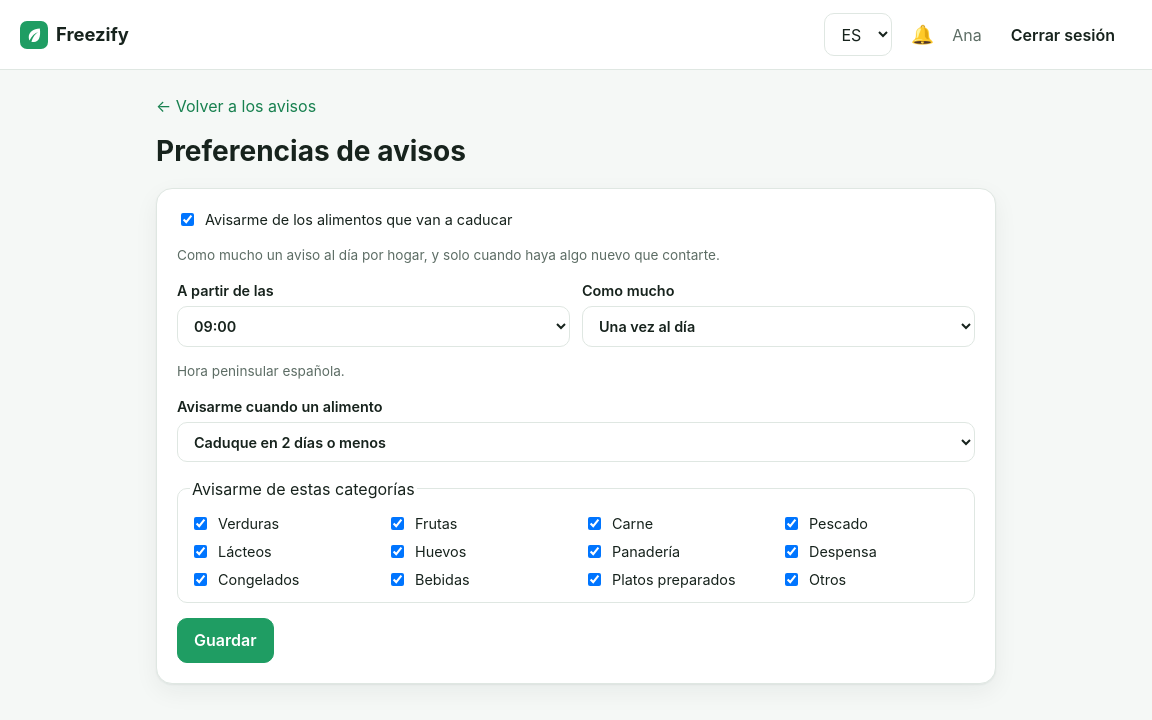
Scenario: notification preferences › saves what the user chooses
Check: the checkbox labelled "Avisarme de los alimentos que van a caducar" is checked, box [181,214,194,226]
Check: the checkbox labelled "Lácteos" is checked, box [194,545,207,558]
Select "20:00" in the dropdown labelled "A partir de las" at (374, 326), box [177,306,570,347]
Select "Cada 3 días" in the dropdown labelled "Como mucho" at (778, 326), box [582,306,975,347]
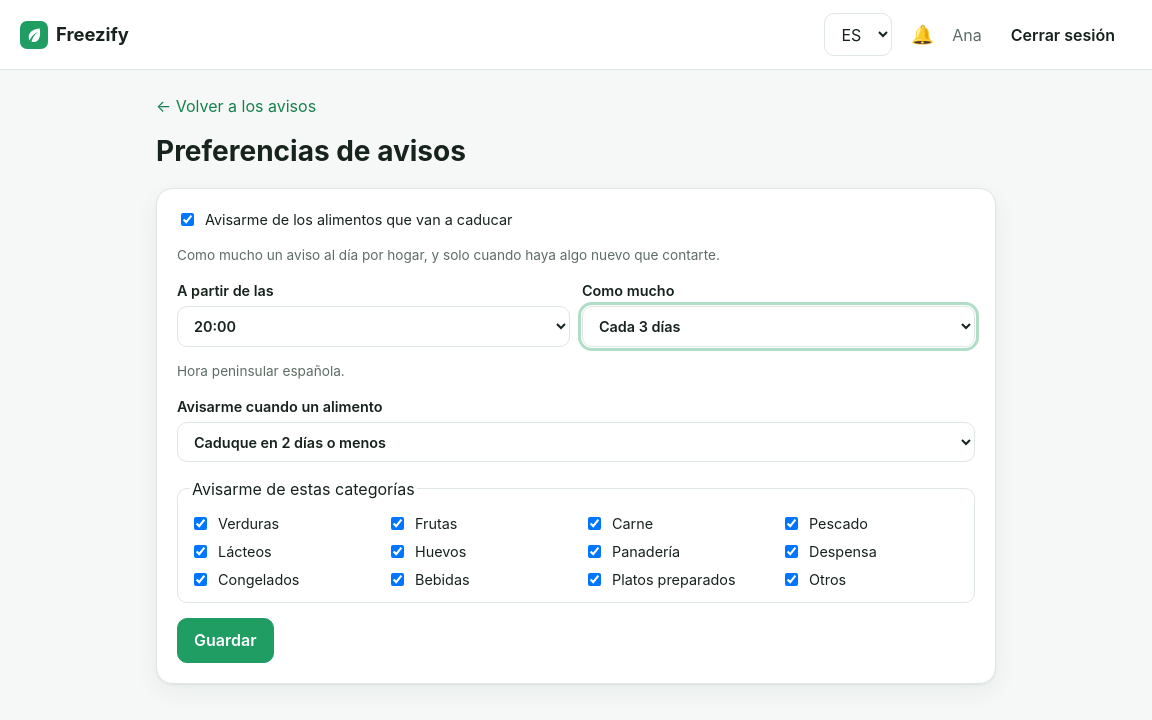
Select "Caduque en 5 días o menos" in the dropdown labelled "Avisarme cuando un alimento" at (576, 442), box [177,422,975,462]
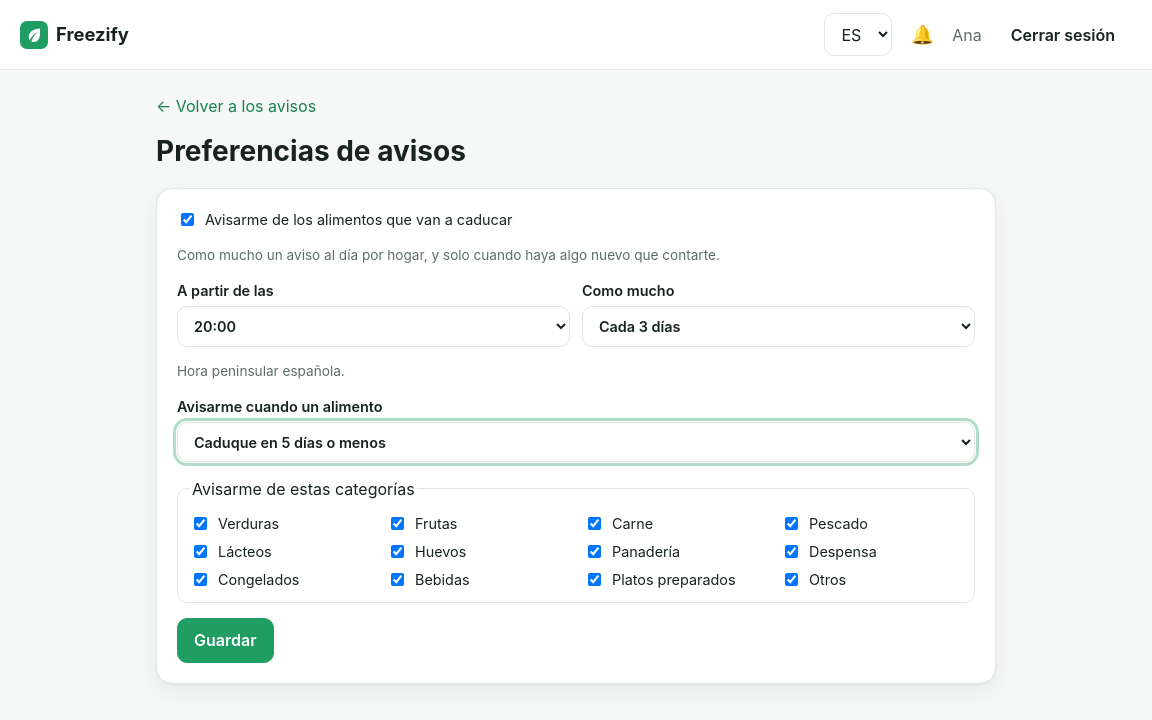
Click the checkbox labelled "Lácteos".
click(200, 552)  # box [194,545,207,558]
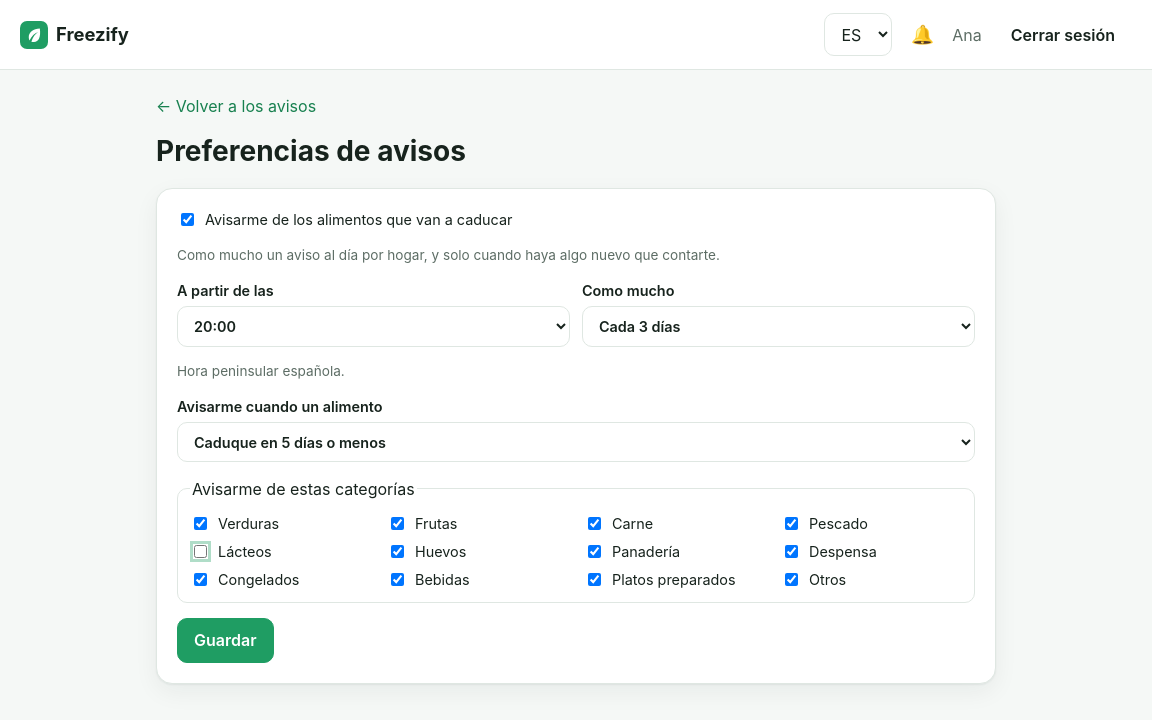
Click the checkbox labelled "Bebidas".
click(398, 580)  # box [391,573,404,586]
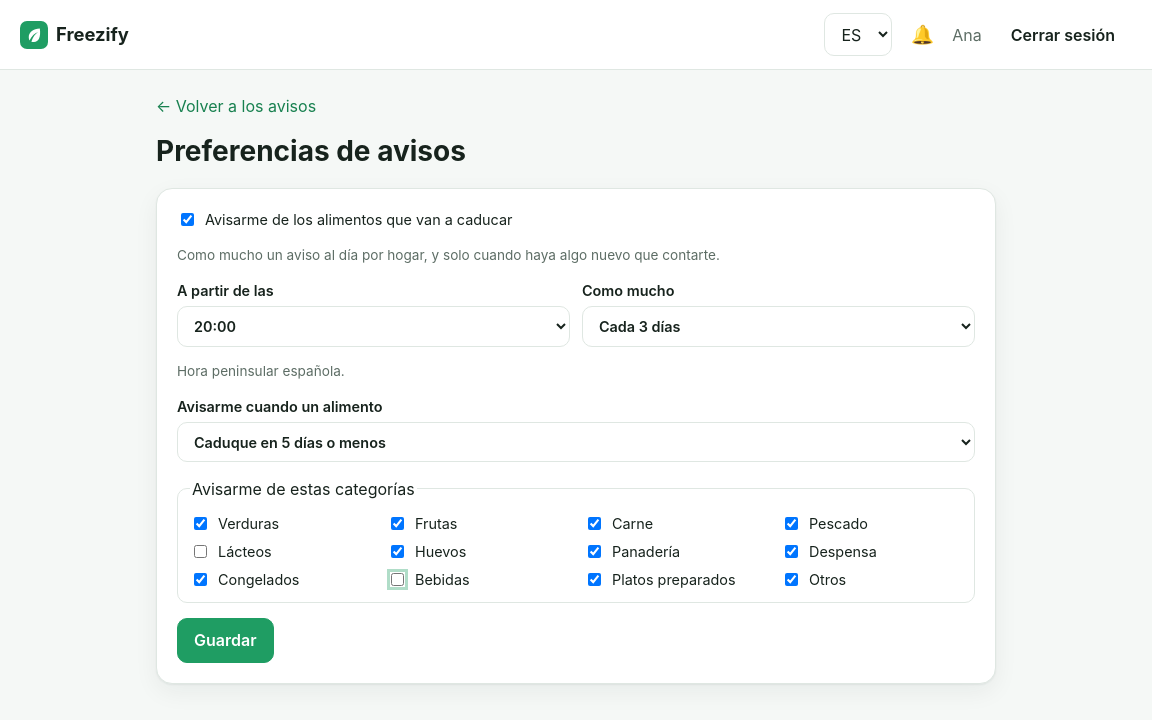
Click the button "Guardar".
click(225, 640)  # box [177,618,274,663]
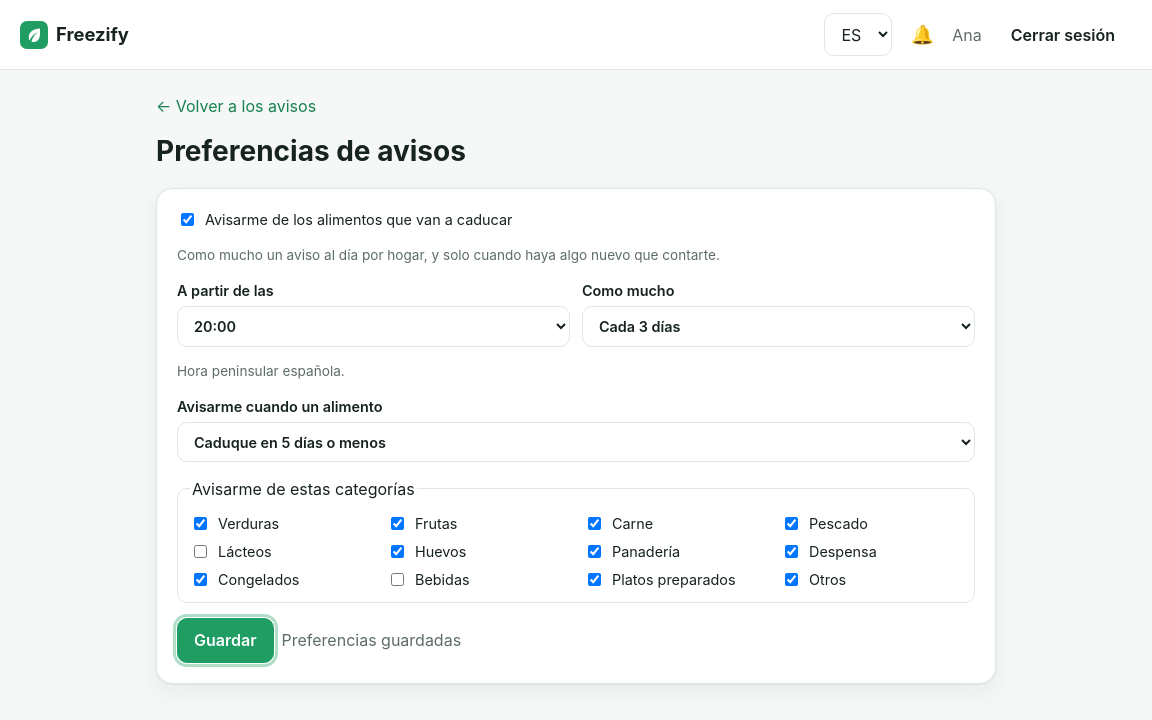
Check: the message reads "Preferencias guardadas", box [282,630,461,650]
// A further change is not saved until the user says so.
Click the checkbox labelled "Lácteos".
click(200, 552)  # box [194,545,207,558]
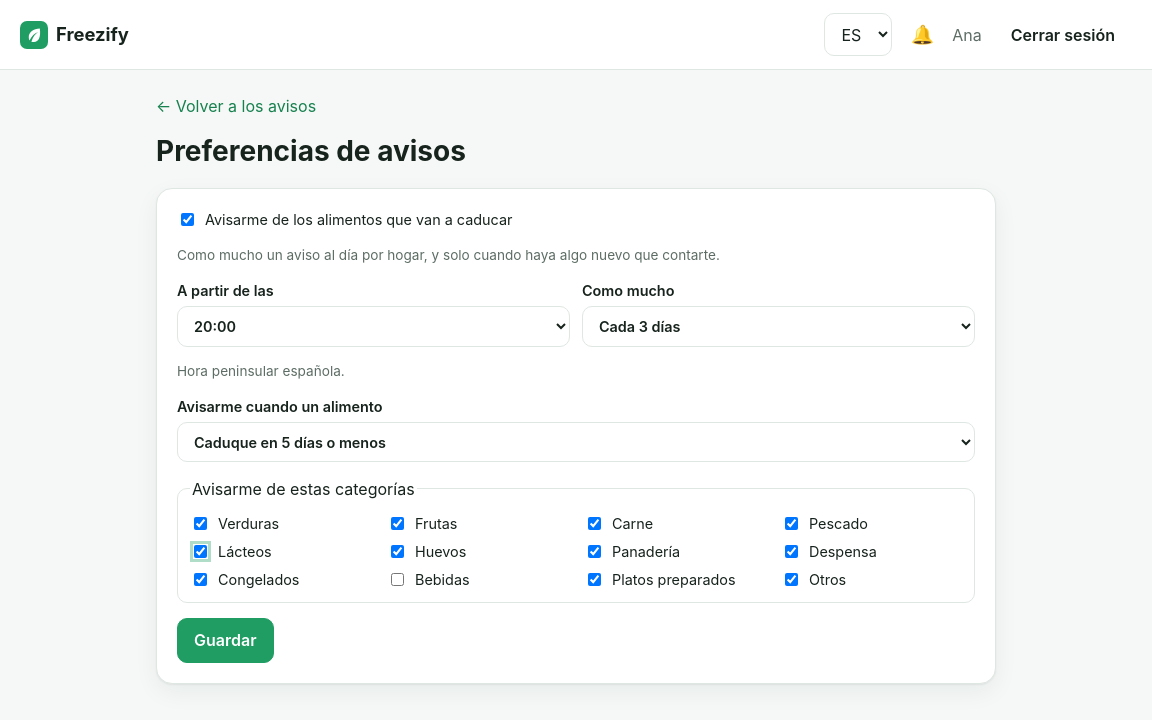
Check: the message "Preferencias guardadas" is gone
